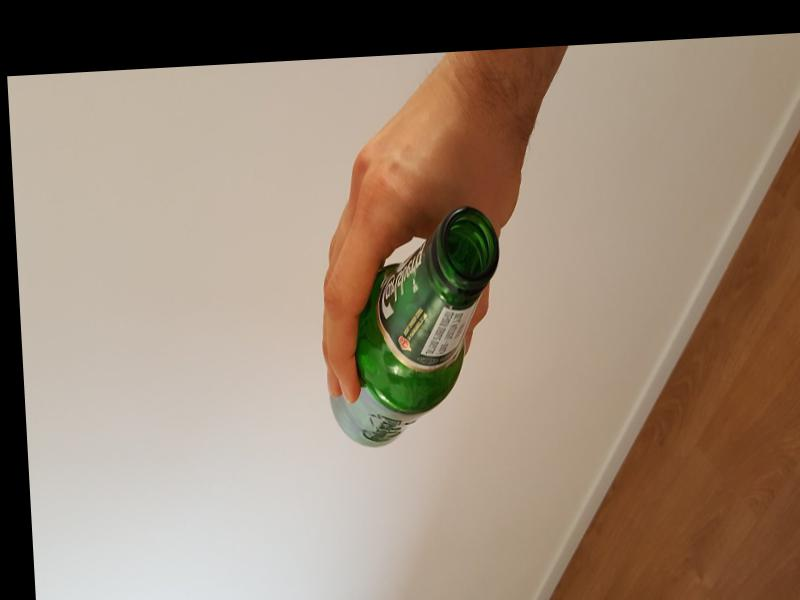Beer: (322, 203, 513, 449)
